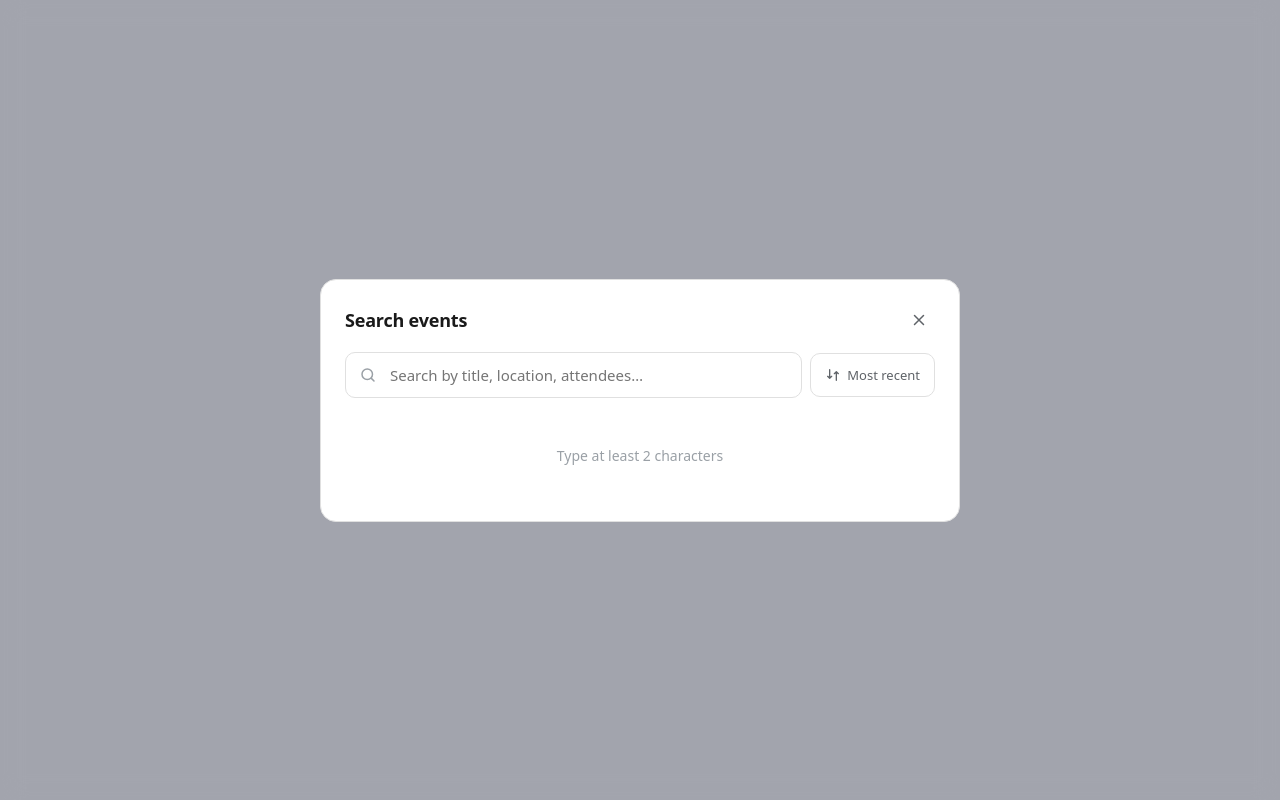
Test: eventSearchDialog query lifecycle › renders results when search returns events
This screenshot has width=1280, height=800.
Type "weekly" into the dropdown.
click(574, 374); type("weekly")  # box [345,352,802,398]
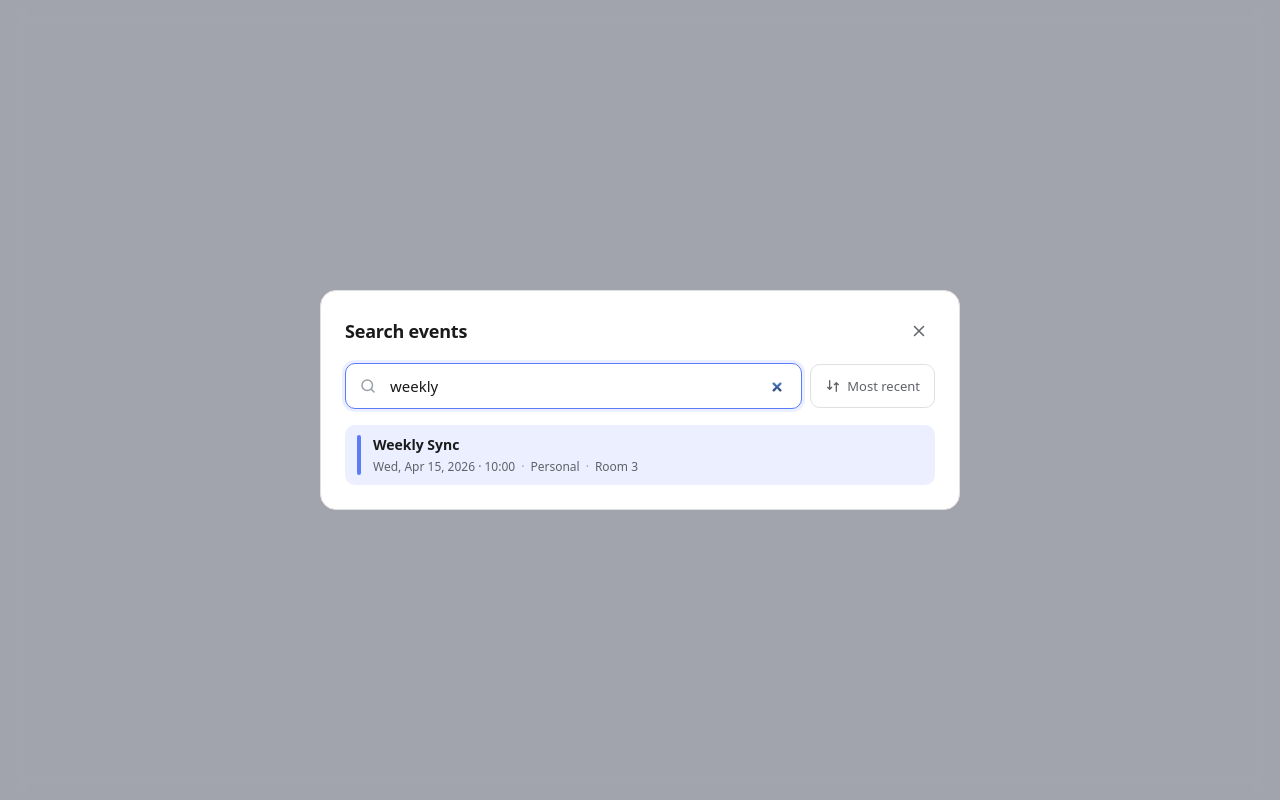
expect the text "Weekly Sync" is shown: met, box [373,435,459,454]
